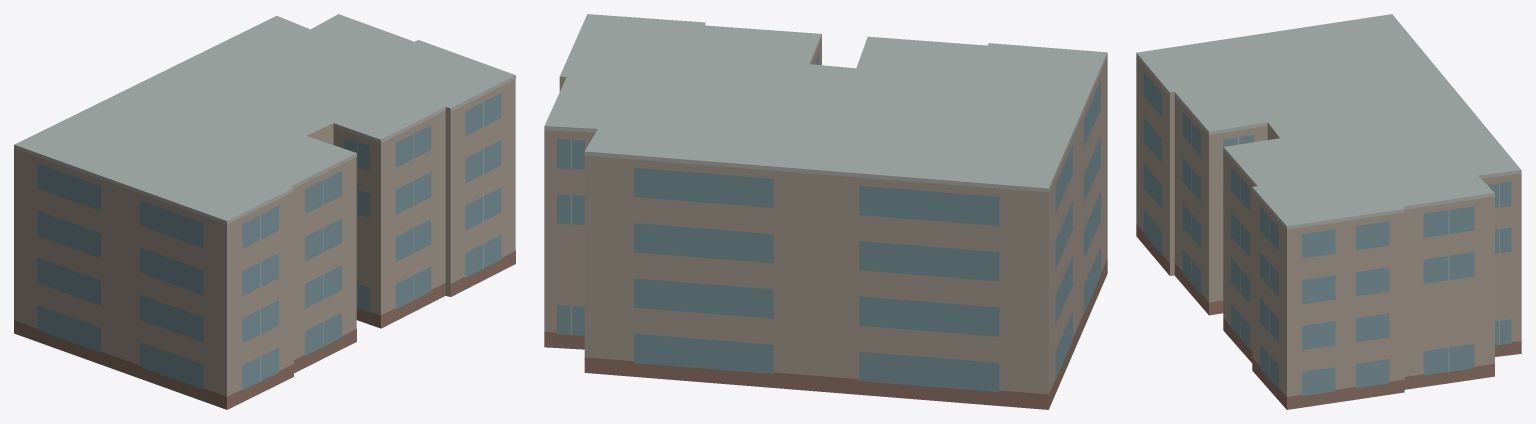
File: survey-upis-32864511.glb
3 views of the same model, side by side, from view 1: azimuth 30°, elevation 25°; view 2: azimuth 150°, elevation 25°; view 3: azimuth 270°, elevation 25° (orthographic). The views are drawn at different scales.
Parts seen in each view (by area): view 1: survey-upis-32864511.tmp; view 2: survey-upis-32864511.tmp; view 3: survey-upis-32864511.tmp.
Part boxes in pixels (x1=…): survey-upis-32864511.tmp: x1=14, y1=14, x2=515, y2=409; survey-upis-32864511.tmp: x1=544, y1=14, x2=1107, y2=409; survey-upis-32864511.tmp: x1=1136, y1=14, x2=1521, y2=409.
Bounding box in the file's own units: 32.26 × 13 × 24.74.
